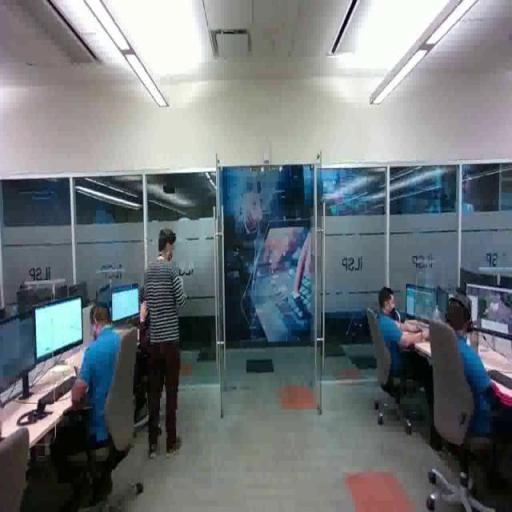person: (47, 295, 141, 496), (429, 290, 512, 484), (139, 225, 192, 460), (364, 278, 436, 407)
